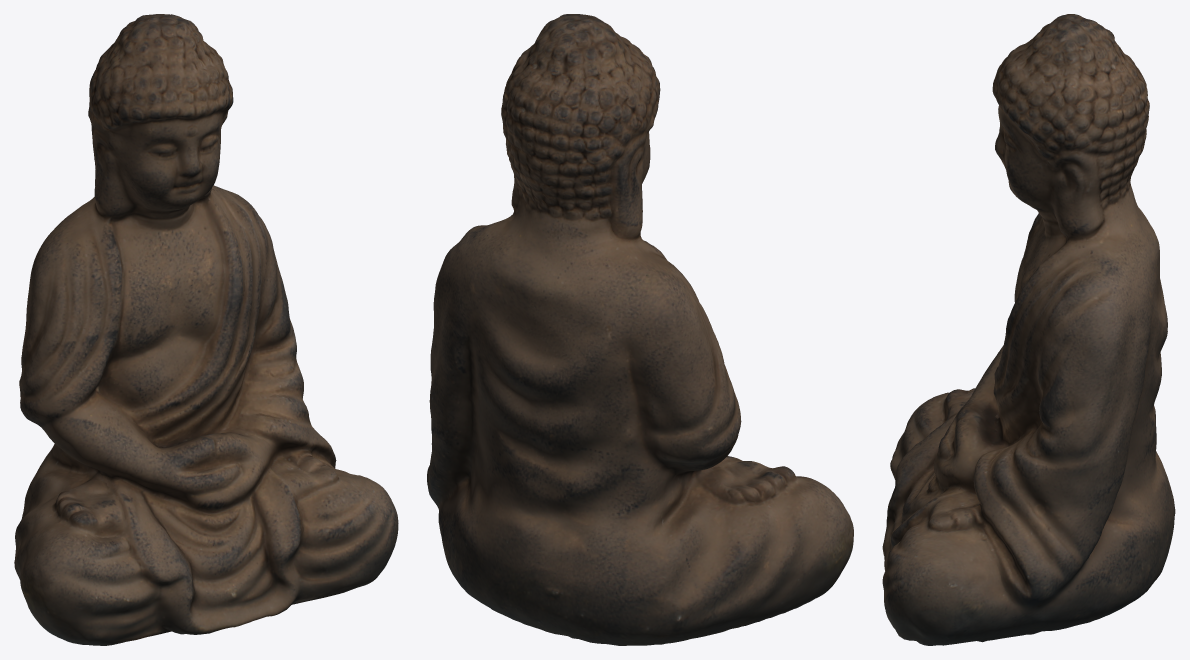
The model's file is obj_buda_745e8a.glb.
The picture shows the model from 3 angles, left to right: view 1: azimuth 30°, elevation 25°; view 2: azimuth 150°, elevation 25°; view 3: azimuth 270°, elevation 25°; orthographic projection. The views are drawn at different scales.
Visible parts, largest first — view 1: obj_buda_745e8a; view 2: obj_buda_745e8a; view 3: obj_buda_745e8a.
Boxes of the visible parts, left/top/right/bottom form: obj_buda_745e8a: left=14, top=14, right=398, bottom=645; obj_buda_745e8a: left=427, top=14, right=853, bottom=645; obj_buda_745e8a: left=882, top=14, right=1175, bottom=645.
Size of the model in its own units: 0.3398 by 0.5 by 0.2368.
1 material, 1 textured.
